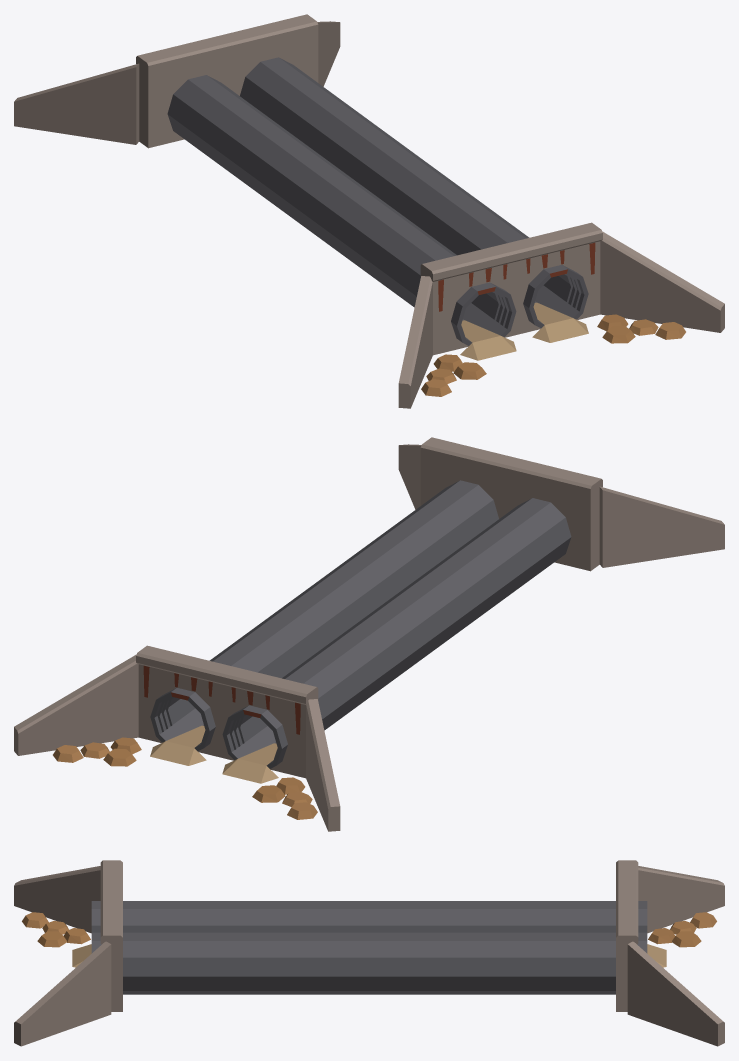
The model's file is road-culvert-polyfork.glb.
3 views of the same model, one above another, from view 1: azimuth 30°, elevation 25°; view 2: azimuth 150°, elevation 25°; view 3: azimuth 270°, elevation 25° (orthographic). The views are drawn at different scales.
Visible parts, largest first — view 1: culvert; view 2: culvert; view 3: culvert.
Part boxes in pixels (box(x1,y1,x2,y2)): culvert: box(14, 14, 724, 408); culvert: box(14, 437, 724, 831); culvert: box(14, 860, 724, 1046).
Bounding box in the file's own units: 7.68 × 1.9 × 16.
